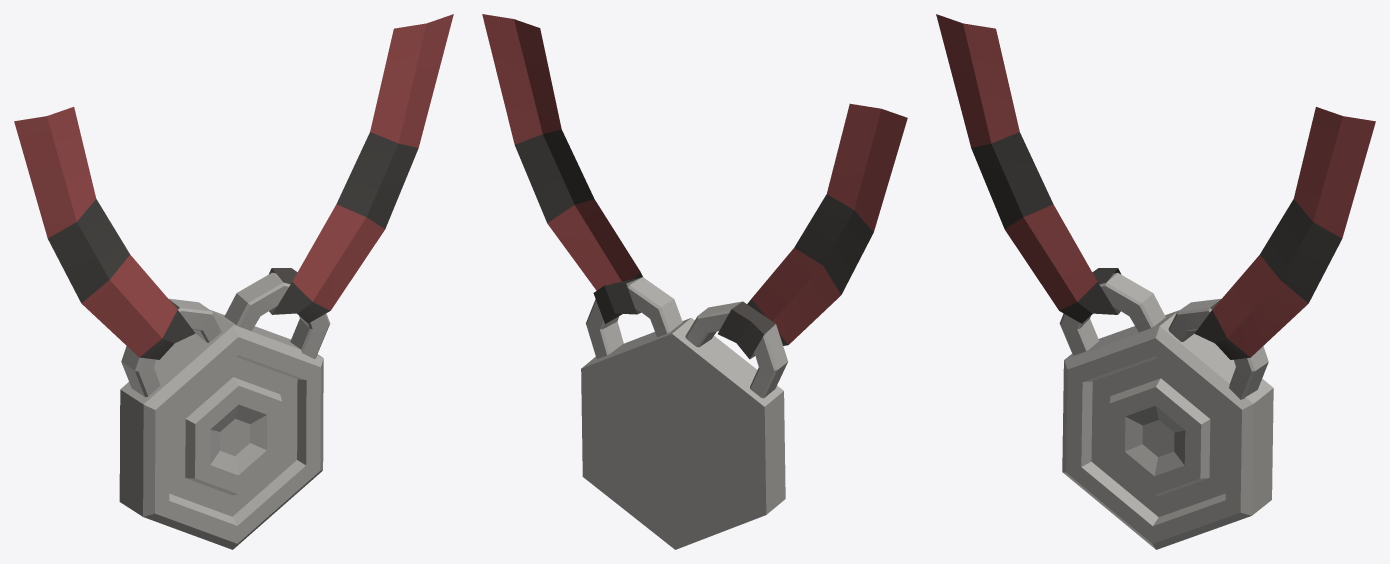
The model's file is amuletSilverMedal.fbx.
3 views of the same model, side by side, from view 1: azimuth 30°, elevation 25°; view 2: azimuth 150°, elevation 25°; view 3: azimuth 330°, elevation 25° (orthographic). The views are drawn at different scales.
Parts seen in each view (by area): view 1: amuletSilverMedal; view 2: amuletSilverMedal; view 3: amuletSilverMedal.
Part boxes in pixels (x1=…): amuletSilverMedal: x1=14, y1=14, x2=453, y2=549; amuletSilverMedal: x1=482, y1=14, x2=907, y2=549; amuletSilverMedal: x1=936, y1=14, x2=1375, y2=549.
Size of the model in its own units: 1.88 by 1.97 by 0.2299.
1 material, 1 textured.
